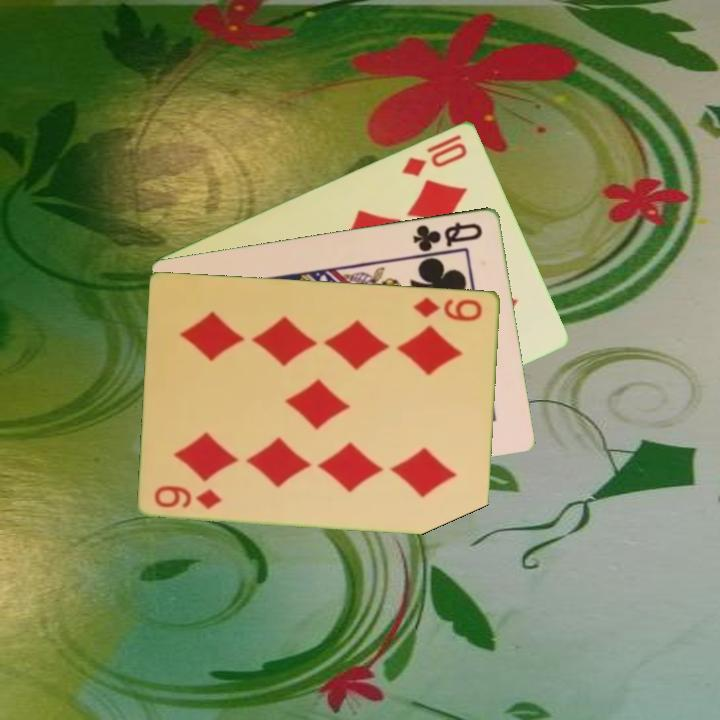10d: (398, 138, 471, 179)
9d: (410, 293, 486, 324), (151, 481, 225, 512)
Qc: (409, 217, 486, 254)
